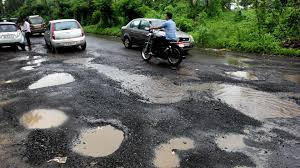potholes: (82, 49, 300, 161), (103, 112, 300, 167), (2, 93, 125, 168), (3, 96, 79, 157), (9, 54, 85, 89)
